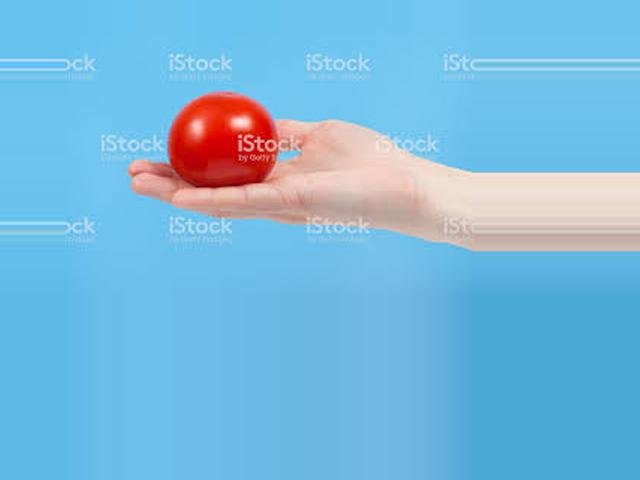tomato: (167, 93, 277, 186)
